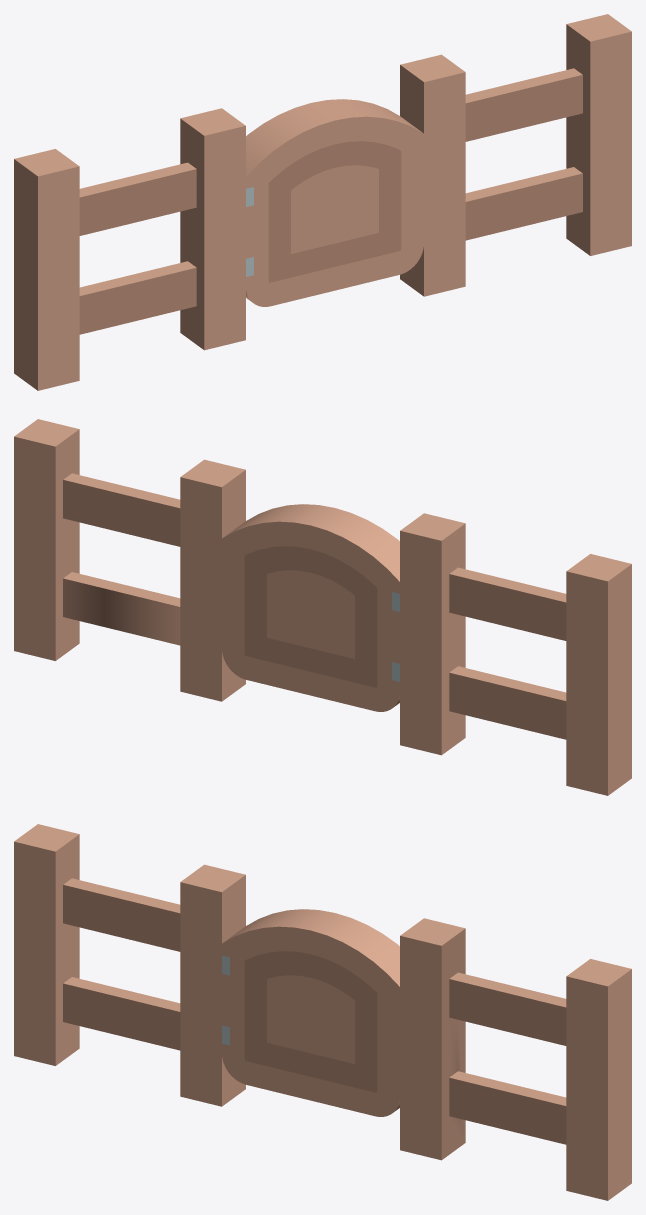
Rendered from fence_gate.glb.
3 views of the same model, one above another, from view 1: azimuth 30°, elevation 25°; view 2: azimuth 150°, elevation 25°; view 3: azimuth 330°, elevation 25° (orthographic).
Visible parts, largest first — view 1: fence_gate, gate; view 2: fence_gate, gate; view 3: fence_gate, gate.
Part boxes in pixels (x1,y1,x2,y2): fence_gate: (14,14,631,390); gate: (246,99,423,306); fence_gate: (14,419,631,795); gate: (222,504,399,711); fence_gate: (14,824,631,1200); gate: (222,909,399,1116).
Size of the model in its own units: 1 by 0.345 by 0.07.
